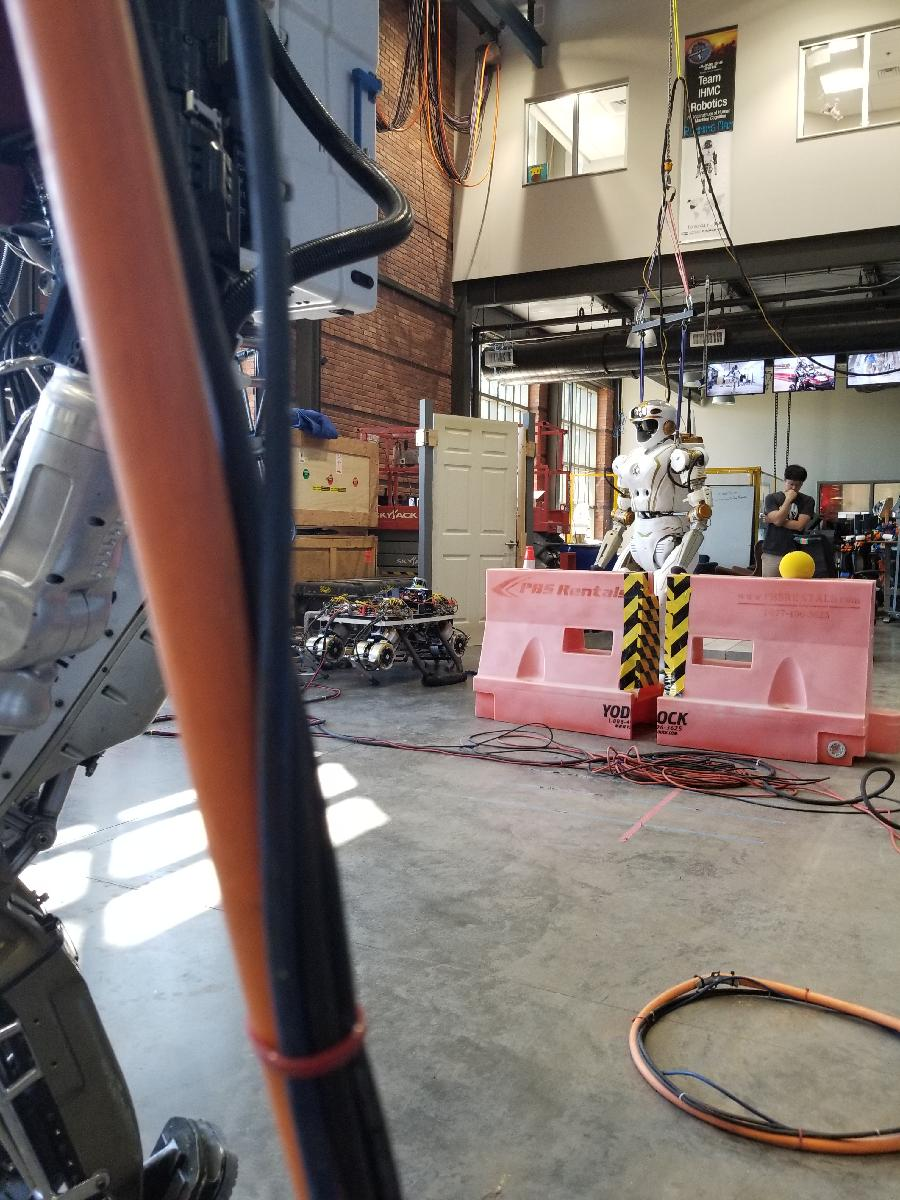door: (429, 410, 520, 665)
doorHandle: (503, 533, 520, 551)
